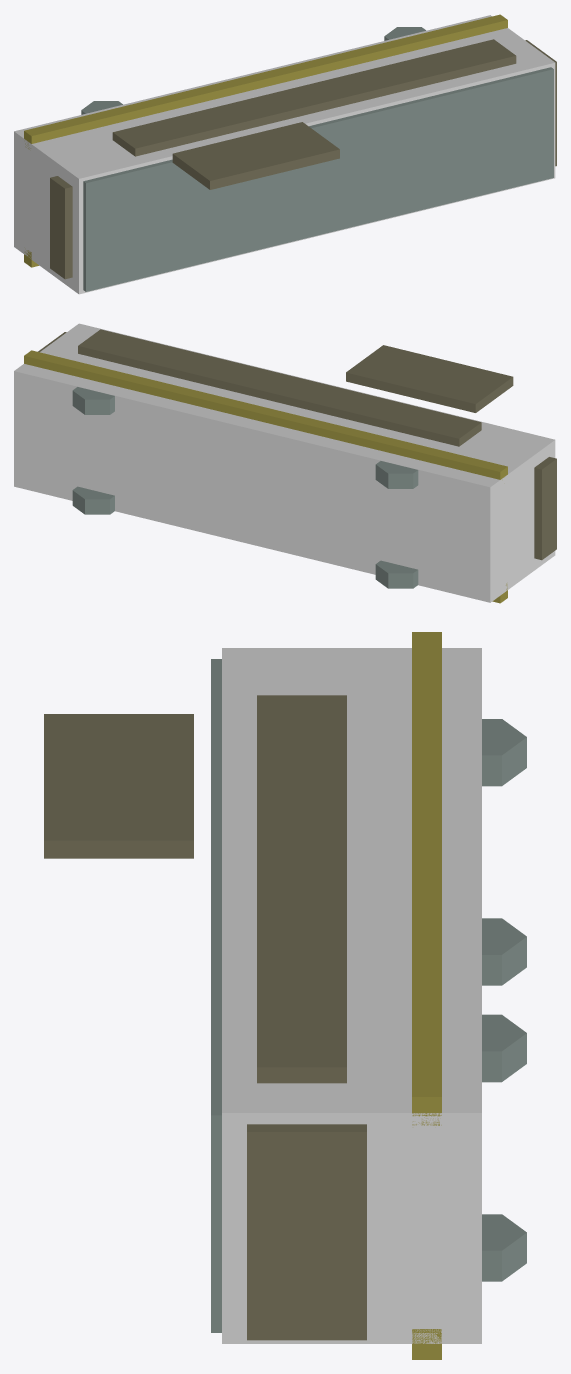
File: SM_AutobusCruzado_v2_Volcado_LOD1.fbx
3 views of the same model, one above another, from view 1: azimuth 30°, elevation 25°; view 2: azimuth 150°, elevation 25°; view 3: azimuth 270°, elevation 25° (orthographic). The views are drawn at different scales.
Visible parts, largest first — view 1: SM_aqui_paso_algo_v17_LOD1; view 2: SM_aqui_paso_algo_v17_LOD1; view 3: SM_aqui_paso_algo_v17_LOD1.
Boxes of the visible parts, bbox=[...] form: SM_aqui_paso_algo_v17_LOD1: bbox=[14, 14, 556, 294]; SM_aqui_paso_algo_v17_LOD1: bbox=[14, 323, 556, 603]; SM_aqui_paso_algo_v17_LOD1: bbox=[44, 632, 526, 1359].
Size of the model in its own units: 11.36 by 2.93 by 4.83.
